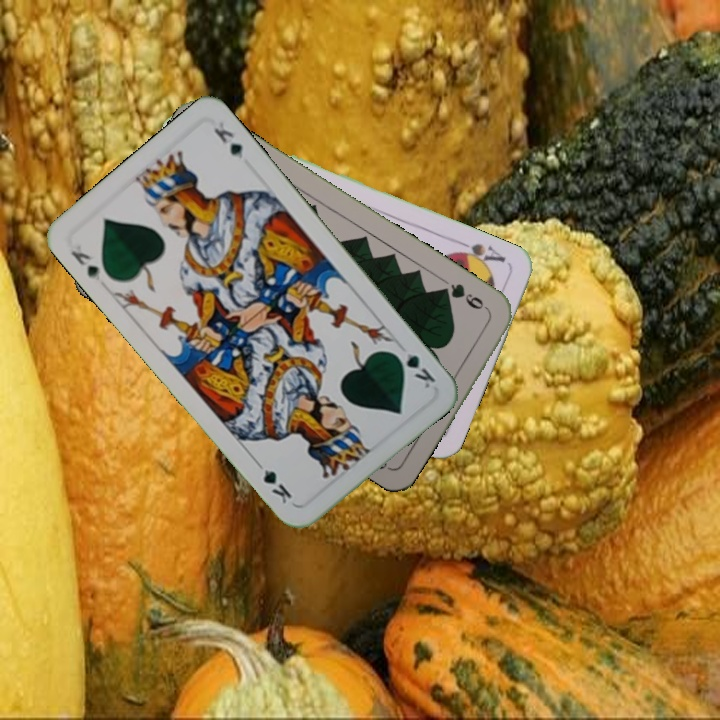G9: (436, 279, 492, 315)
GK: (389, 347, 439, 391), (66, 240, 108, 289)
SA: (450, 237, 508, 271)
